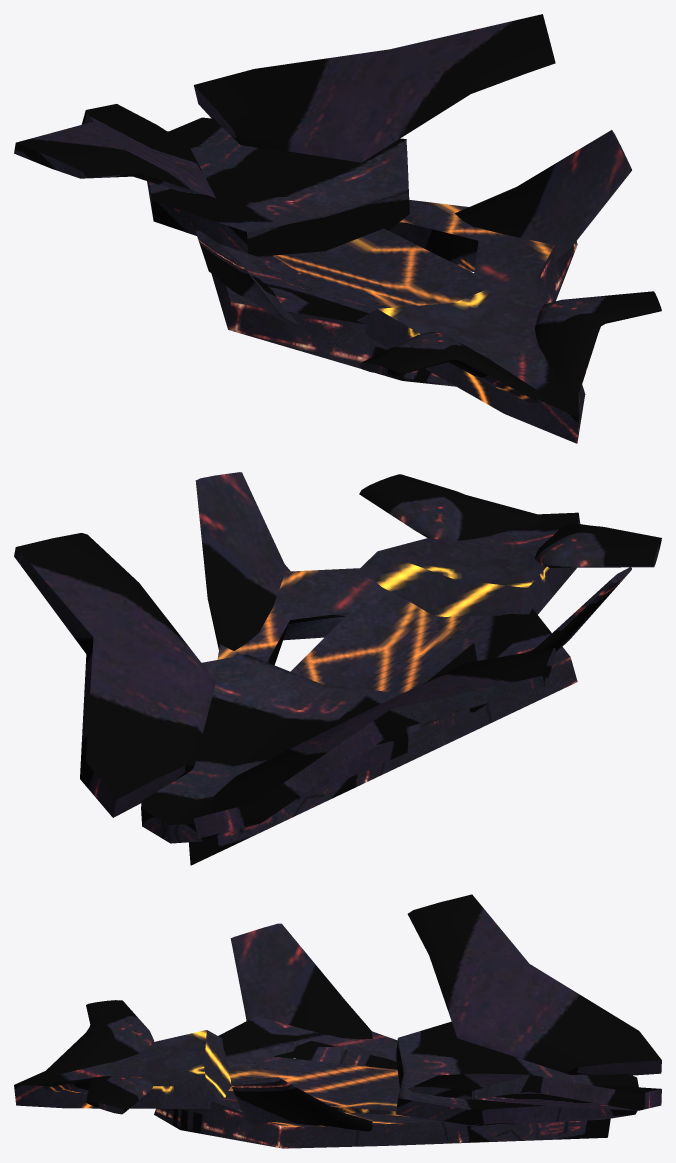
File: ship16f.fbx
3 renders of one model, top to bottom at view 1: azimuth 30°, elevation 25°; view 2: azimuth 150°, elevation 25°; view 3: azimuth 270°, elevation 25°, orthographic. The views are drawn at different scales.
Parts seen in each view (by area): view 1: PipelineFBX; view 2: PipelineFBX; view 3: PipelineFBX.
Boxes of the visible parts, x1=… form: PipelineFBX: x1=14, y1=14, x2=661, y2=443; PipelineFBX: x1=14, y1=472, x2=661, y2=865; PipelineFBX: x1=14, y1=894, x2=661, y2=1148.
Bounding box in the file's own units: 553 × 192 × 764.
Materials: 1 (1 with a texture image).
